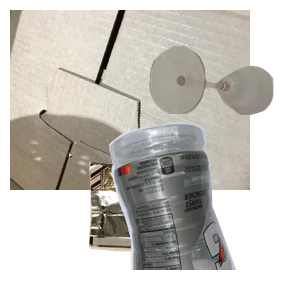cardboard: (10, 10, 250, 190)
glass: (147, 43, 300, 151)
plastic: (106, 120, 300, 300)
trash: (86, 158, 242, 300)
